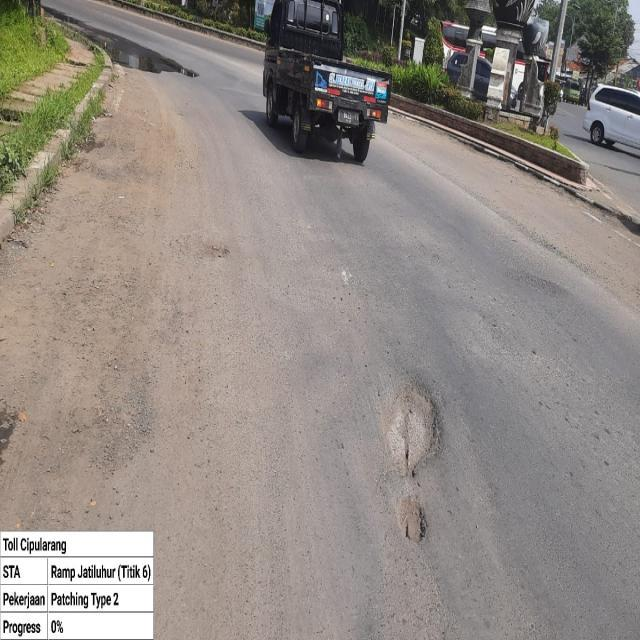Buraco: (40, 5, 202, 80), (381, 378, 446, 482), (394, 493, 430, 547)
